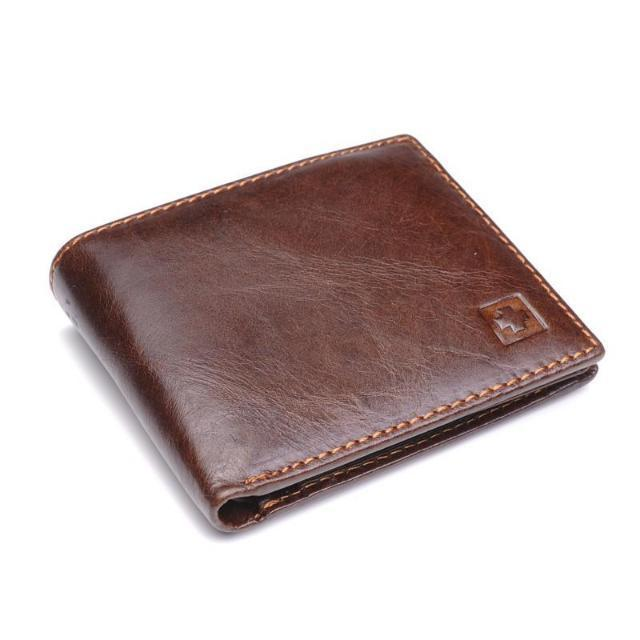wallet: (48, 127, 610, 537)
